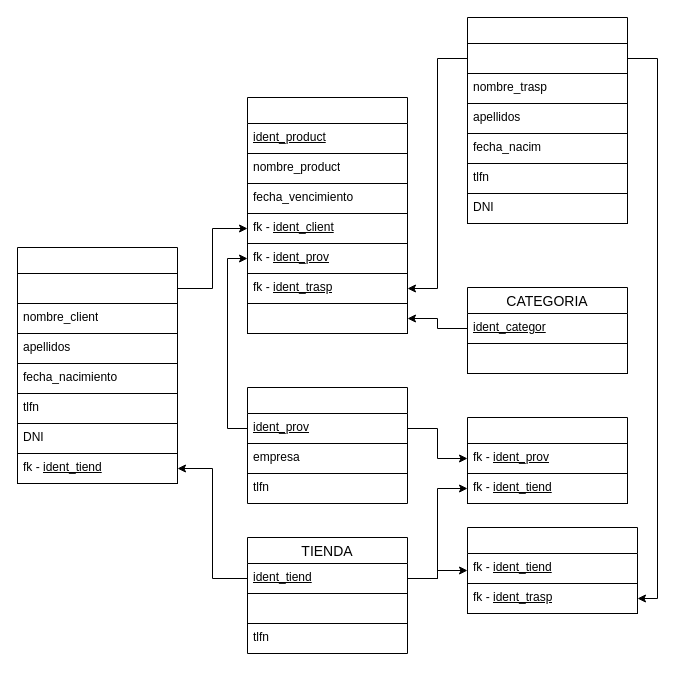
Some shapes in this 683 by 674 pixel diagram are drawn without their labels. Here are the shapes that lost their labels. From the top down, the box of each, then its label:
(466, 42, 628, 74): ident_trasp
(466, 16, 628, 134): TRANSPORTISTA
(246, 96, 408, 214): PRODUCTOS
(16, 272, 178, 304): ident_client
(16, 246, 178, 364): CLIENTE
(246, 302, 408, 334): fk - ident_categor
(466, 342, 628, 374): nombre_categor
(246, 386, 408, 504): PROVEEDOR
(466, 416, 628, 474): PROVEEDOR_TIENDA
(466, 526, 638, 614): TRANSPORTISTA_TIENDA
(246, 592, 408, 624): nombre
